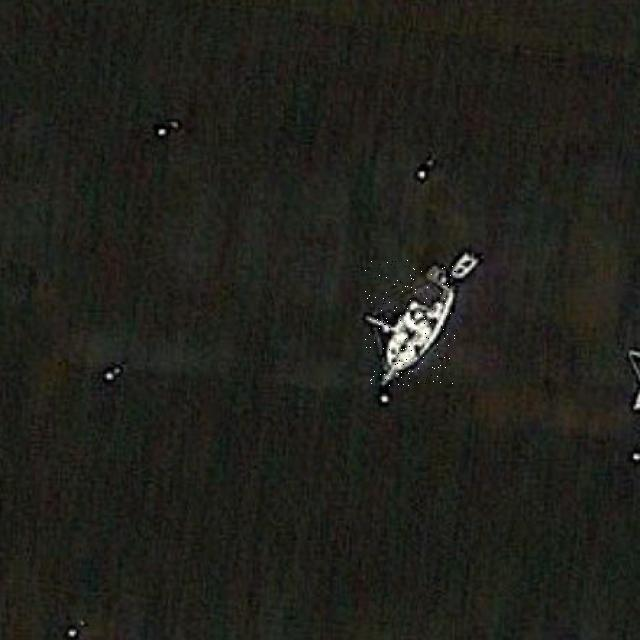boat: (365, 260, 457, 386)
